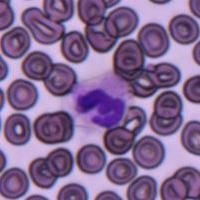N: (70, 71, 132, 129)
